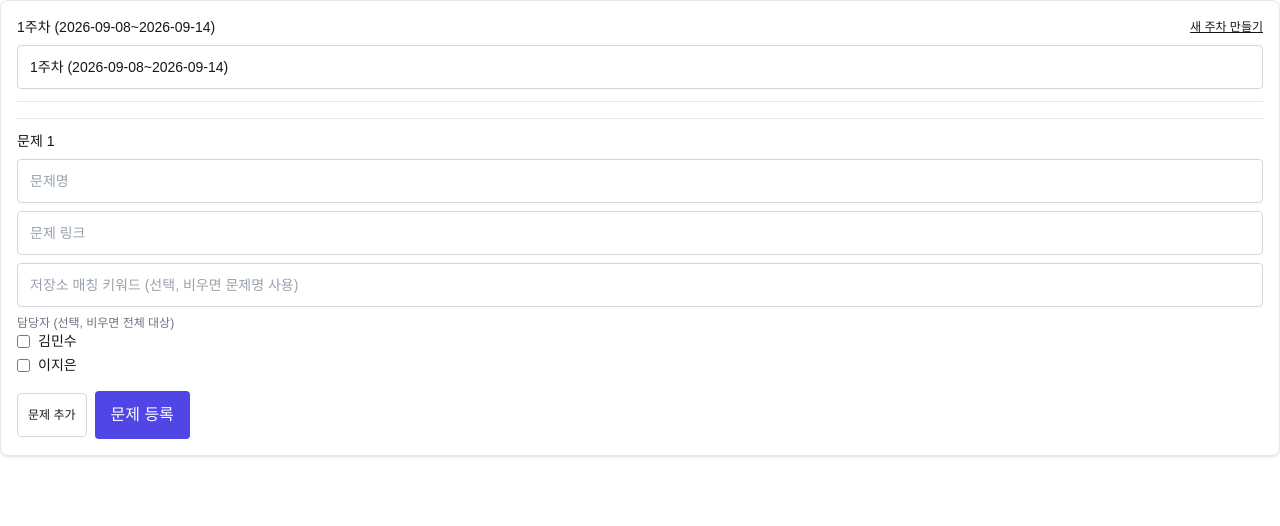
Test: ProblemForm › switches to new-week mode with editable fields when the toggle is clicked
The image size is (1280, 526).
Click the button "새 주차 만들기" at point(1227, 27), box [1190,19,1263,35]
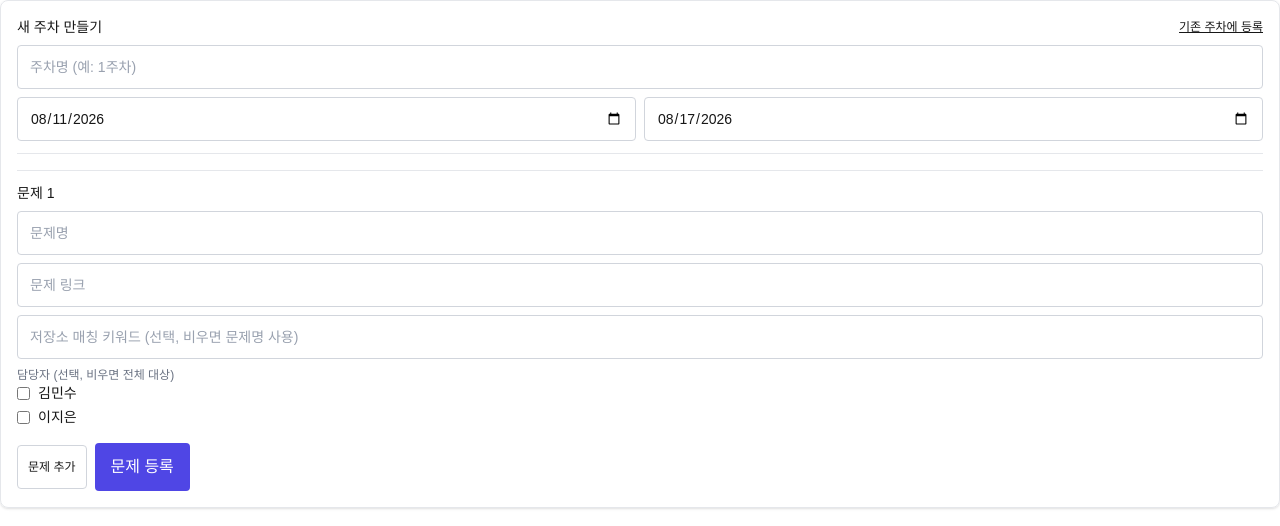
Expected: the field labelled "주차명" is shown, [17,45,1263,89]
Expected: the 1st date field named "시작일" holds "2026-08-11", [17,97,636,141]
Expected: the 2nd date field named "종료일" holds "2026-08-17", [644,97,1263,141]
